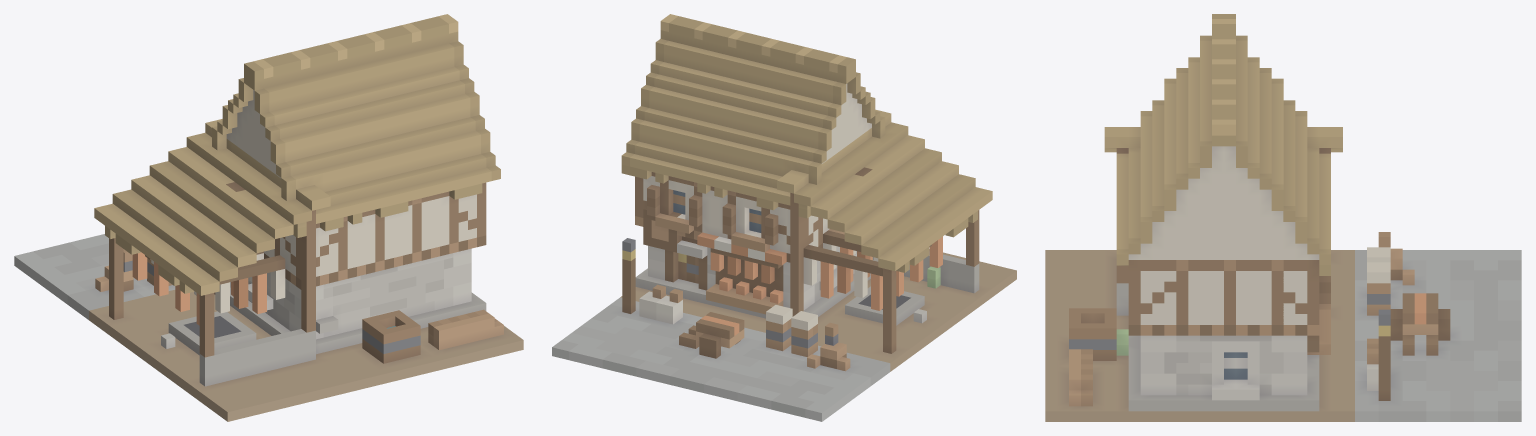
Rendered from butcher.glb.
3 renders of one model, left to right at view 1: azimuth 30°, elevation 25°; view 2: azimuth 150°, elevation 25°; view 3: azimuth 270°, elevation 25°, orthographic. The views are drawn at different scales.
Visible parts, largest first — view 1: butcher; view 2: butcher; view 3: butcher.
Part boxes in pixels (<box>): butcher: <box>14,14,523,421</box>; butcher: <box>552,14,1016,421</box>; butcher: <box>1045,14,1521,421</box>.
Bounding box in the file's own units: 4.12 × 3.5 × 5.
